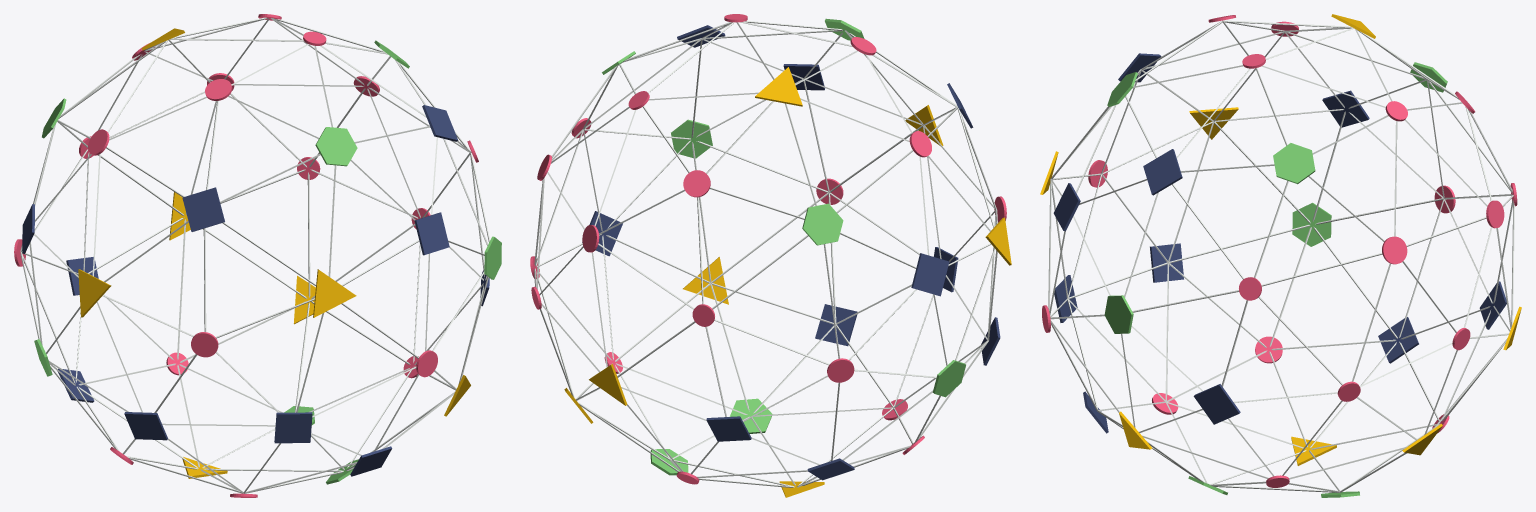
Rendered from helix-animation-test2.glb.
3 views of the same model, side by side, from view 1: azimuth 30°, elevation 25°; view 2: azimuth 150°, elevation 25°; view 3: azimuth 270°, elevation 25° (orthographic).
Visible parts, largest first — view 1: wireisosphereV4.001; view 2: wireisosphereV4.001; view 3: wireisosphereV4.001.
Boxes of the visible parts, <box> form: wireisosphereV4.001: <box>14,14,501,497</box>; wireisosphereV4.001: <box>530,14,1011,497</box>; wireisosphereV4.001: <box>1040,14,1521,497</box>.
Size of the model in its own units: 2.74 by 2.75 by 2.73.
